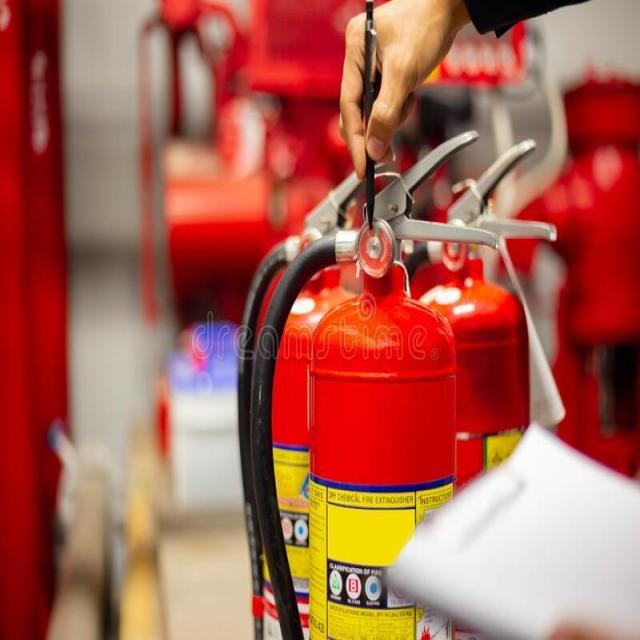fire_extinguisher: (244, 127, 503, 639), (378, 133, 563, 639)
